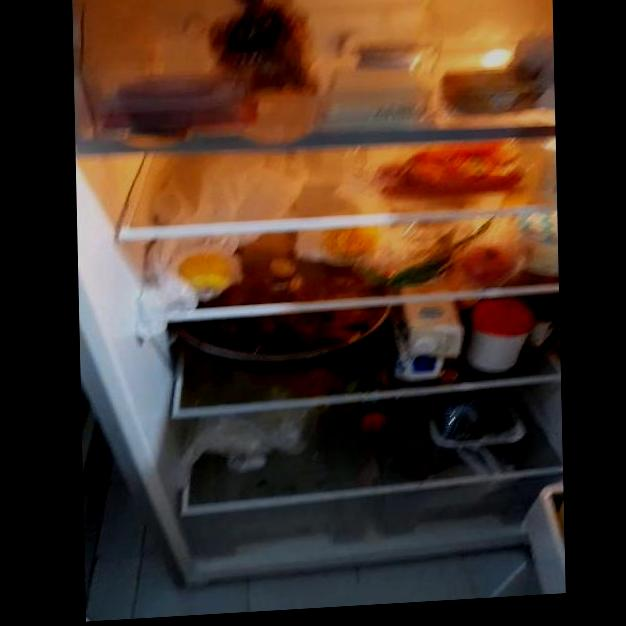bread: (221, 7, 316, 101)
broccoli: (433, 391, 516, 440)
green chilies: (368, 245, 457, 289)
lemon: (178, 250, 241, 298), (330, 226, 379, 259)
milk: (397, 300, 461, 380)
tomato: (462, 246, 520, 283)
